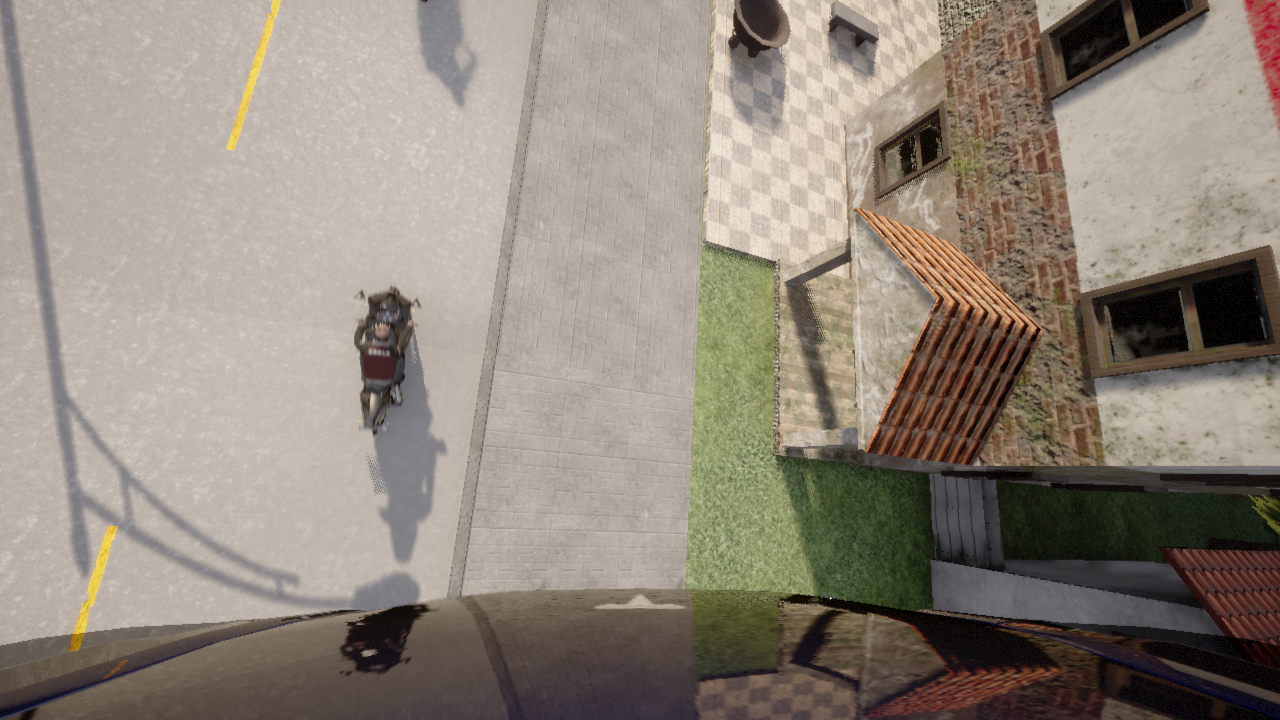cyclist: (0, 588, 1279, 719), (353, 286, 422, 435)
